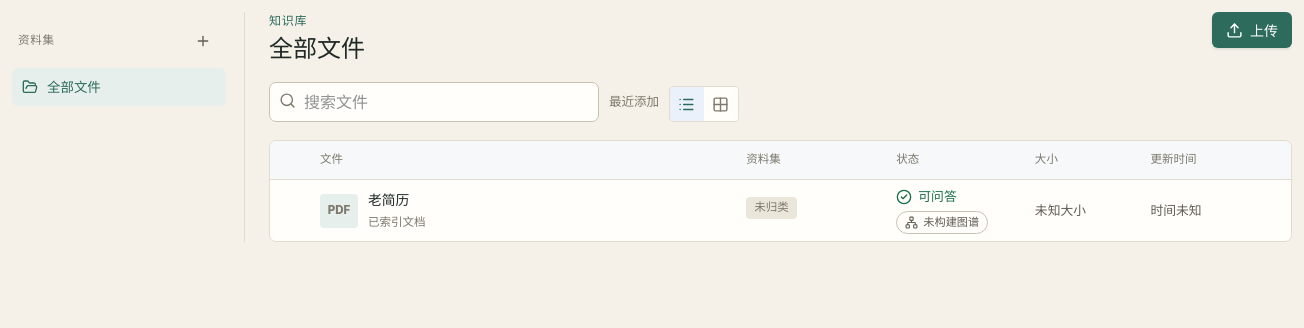
LibraryPage › 老文档缺分块检查点时提示已自动改为重建索引
Click the button "未构建图谱": x=942, y=223 [896, 211, 988, 234]
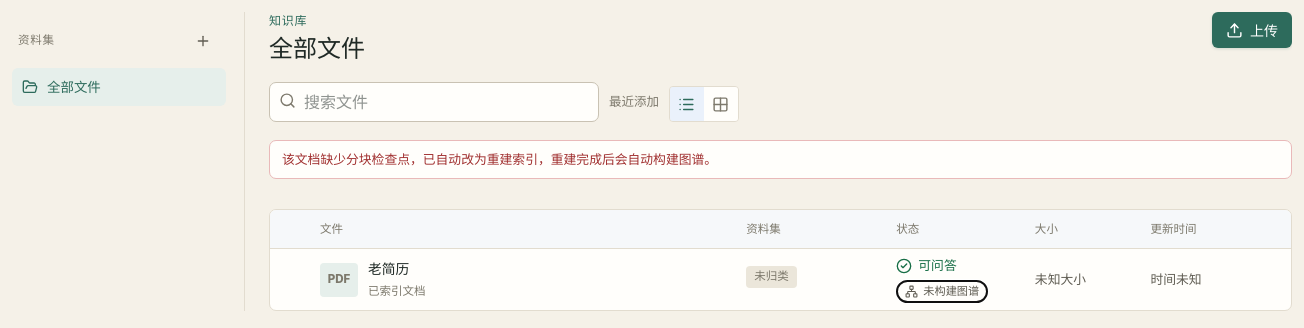
expect the text "该文档缺少分块检查点，已自动改为重建索引，重建完成后会自动构建图谱。" is shown: met, box [269, 140, 1292, 179]
